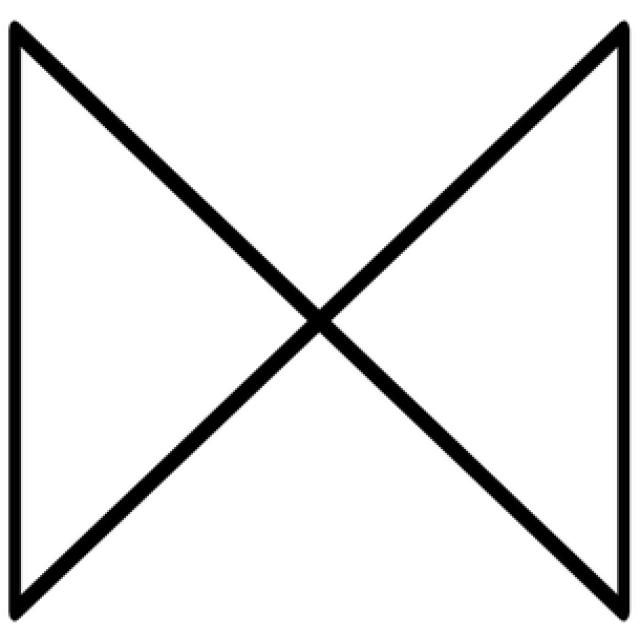Gate valve: (14, 28, 627, 608)
